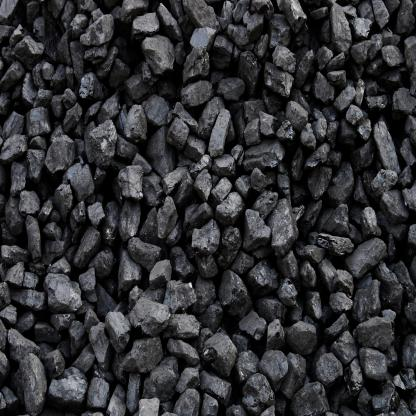Sedimentary_coal: (4, 326, 46, 416), (230, 140, 283, 188), (340, 233, 386, 280), (48, 361, 88, 407), (207, 270, 250, 312), (361, 116, 400, 162), (41, 272, 84, 312), (204, 112, 238, 162), (121, 342, 167, 378), (74, 8, 112, 51), (141, 31, 174, 80), (129, 298, 172, 335), (43, 129, 76, 177), (199, 332, 238, 372), (360, 308, 397, 349), (118, 101, 146, 155), (126, 5, 161, 47), (62, 156, 97, 198), (313, 350, 353, 386), (328, 1, 354, 56), (214, 72, 249, 112), (154, 117, 186, 158), (184, 21, 218, 59), (257, 351, 297, 383), (246, 260, 279, 298), (101, 305, 133, 344), (269, 205, 297, 249), (115, 162, 143, 206), (0, 128, 27, 172), (178, 77, 214, 110), (286, 315, 314, 356), (122, 239, 162, 267), (158, 191, 179, 244), (84, 370, 113, 408), (244, 206, 270, 248), (170, 309, 202, 343), (189, 170, 215, 210), (185, 223, 215, 256), (242, 308, 269, 344), (310, 72, 336, 109), (264, 48, 298, 76), (77, 70, 101, 109), (216, 188, 244, 221), (197, 371, 231, 397), (330, 162, 352, 202), (296, 241, 326, 269), (365, 169, 398, 193), (83, 199, 106, 232), (5, 256, 28, 288), (322, 207, 349, 234), (282, 100, 308, 128), (134, 391, 163, 416), (328, 288, 355, 313), (150, 263, 174, 291), (19, 188, 39, 218)
